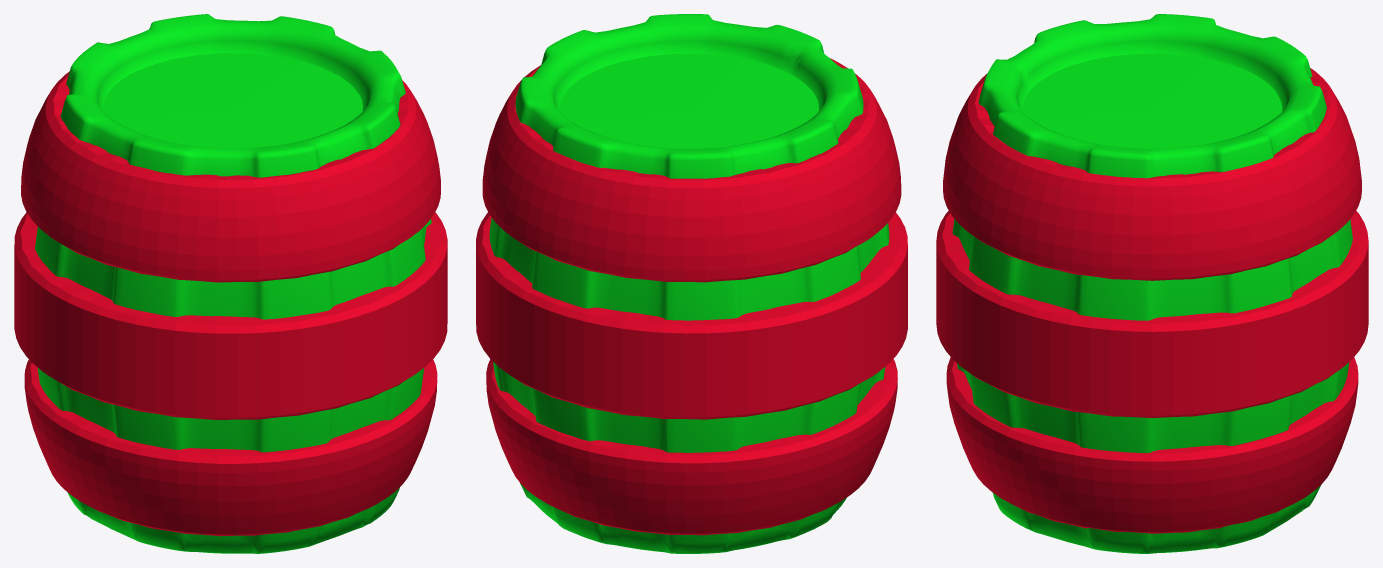
File: Barrel2.fbx
3 views of the same model, side by side, from view 1: azimuth 30°, elevation 25°; view 2: azimuth 150°, elevation 25°; view 3: azimuth 270°, elevation 25° (orthographic).
Visible parts, largest first — view 1: Cylinder.035; view 2: Cylinder.035; view 3: Cylinder.035.
Part boxes in pixels (box(x1,y1,x2,y2)): Cylinder.035: box(14, 14, 447, 553); Cylinder.035: box(476, 14, 907, 553); Cylinder.035: box(936, 14, 1368, 553).
Size of the model in its own units: 240 by 248 by 240.
